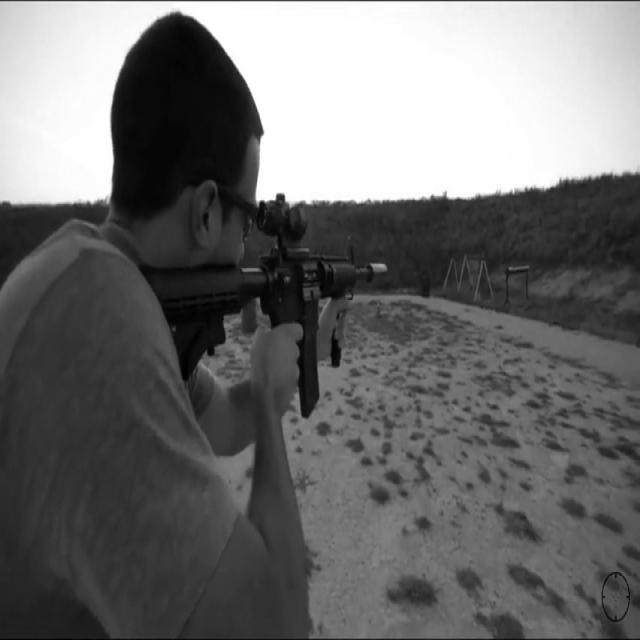Sniper: (86, 147, 459, 536)
